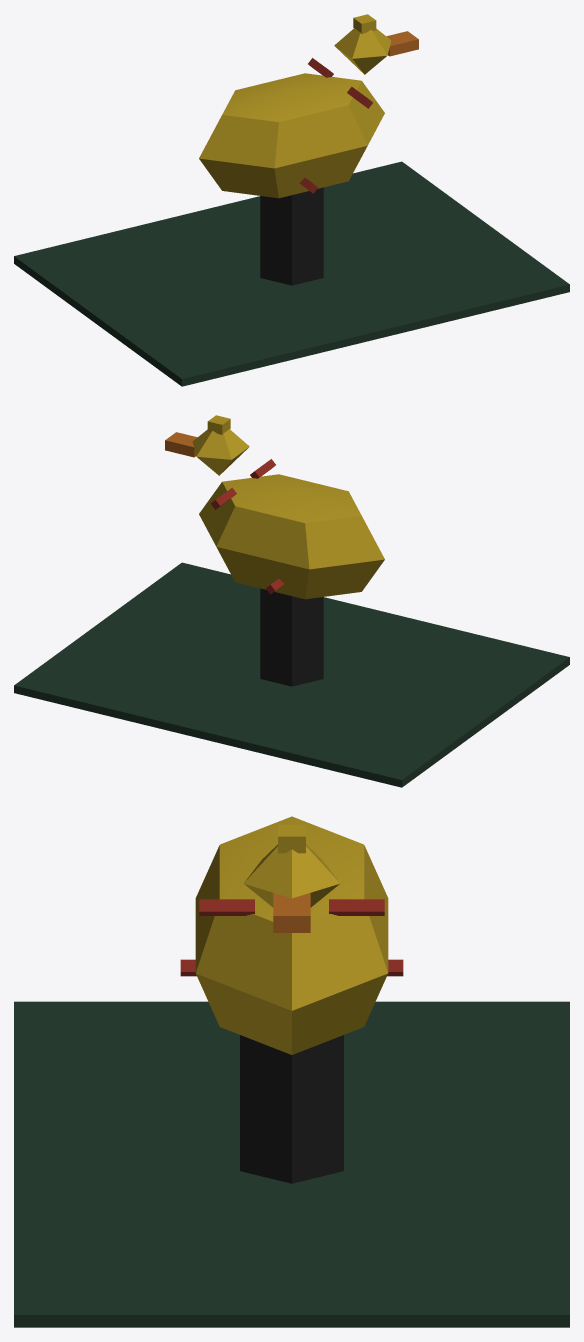
File: SM_Prop_play_springer_2_LOD1.glb
The picture shows the model from 3 angles, top to bottom: view 1: azimuth 30°, elevation 25°; view 2: azimuth 150°, elevation 25°; view 3: azimuth 270°, elevation 25°; orthographic projection. The views are drawn at different scales.
Parts seen in each view (by area): view 1: SM_Prop_play_springer_2_LOD1; view 2: SM_Prop_play_springer_2_LOD1; view 3: SM_Prop_play_springer_2_LOD1.
Boxes of the visible parts, <box> form: SM_Prop_play_springer_2_LOD1: <box>14,14,569,386</box>; SM_Prop_play_springer_2_LOD1: <box>14,415,569,787</box>; SM_Prop_play_springer_2_LOD1: <box>14,816,569,1327</box>.
Size of the model in its own units: 1.6 by 0.95 by 1.2.
